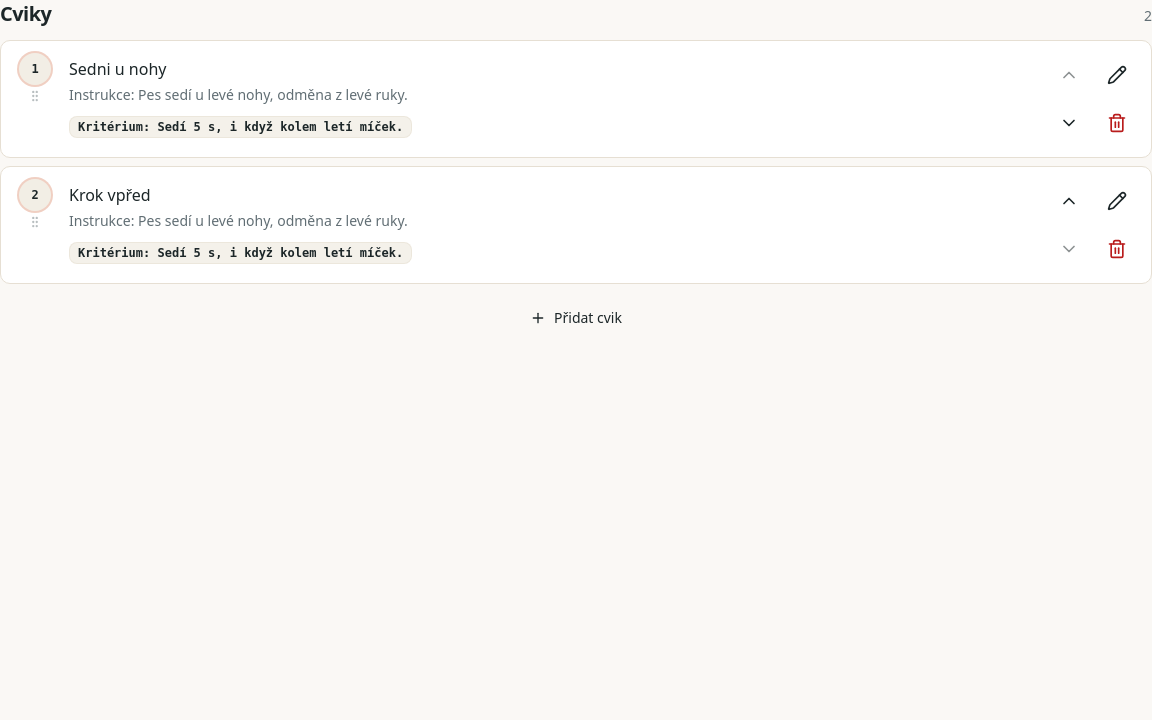
Test: PlanBlocksSection › lets a new exercise go between existing ones (#65)
Click the button "Přidat cvik" at (576, 318), box [0,296,1151,340]
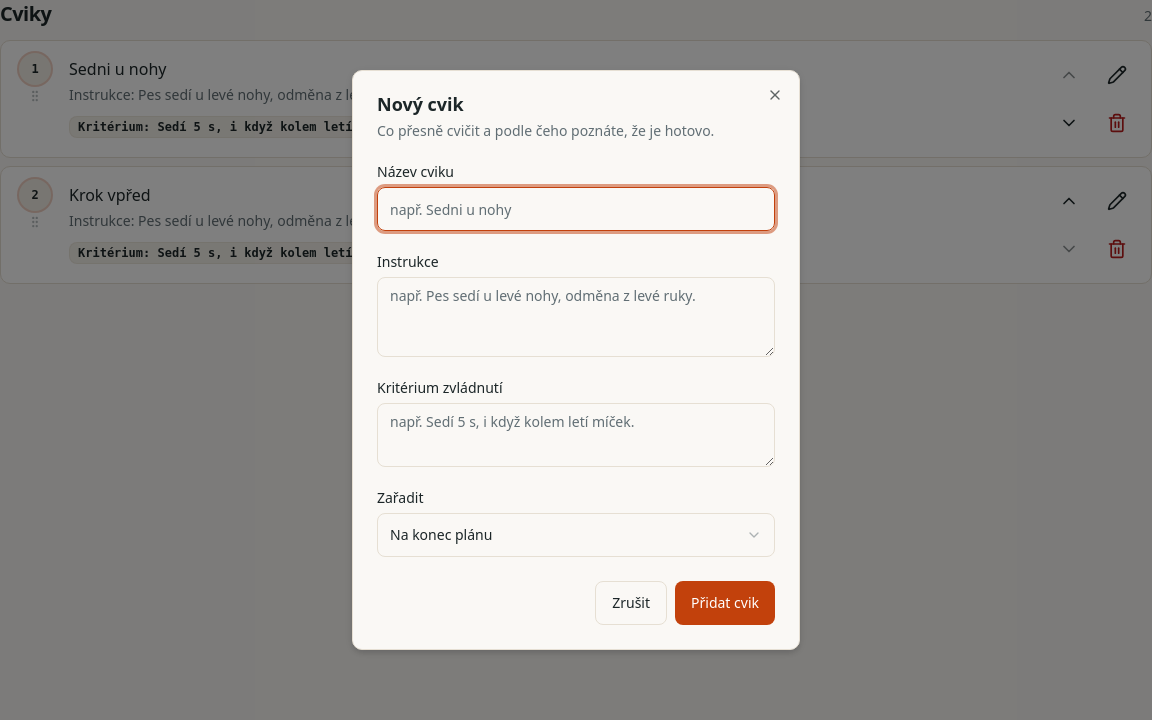
Click the dropdown named "Zařadit" at (441, 534), box [377,513,775,557]
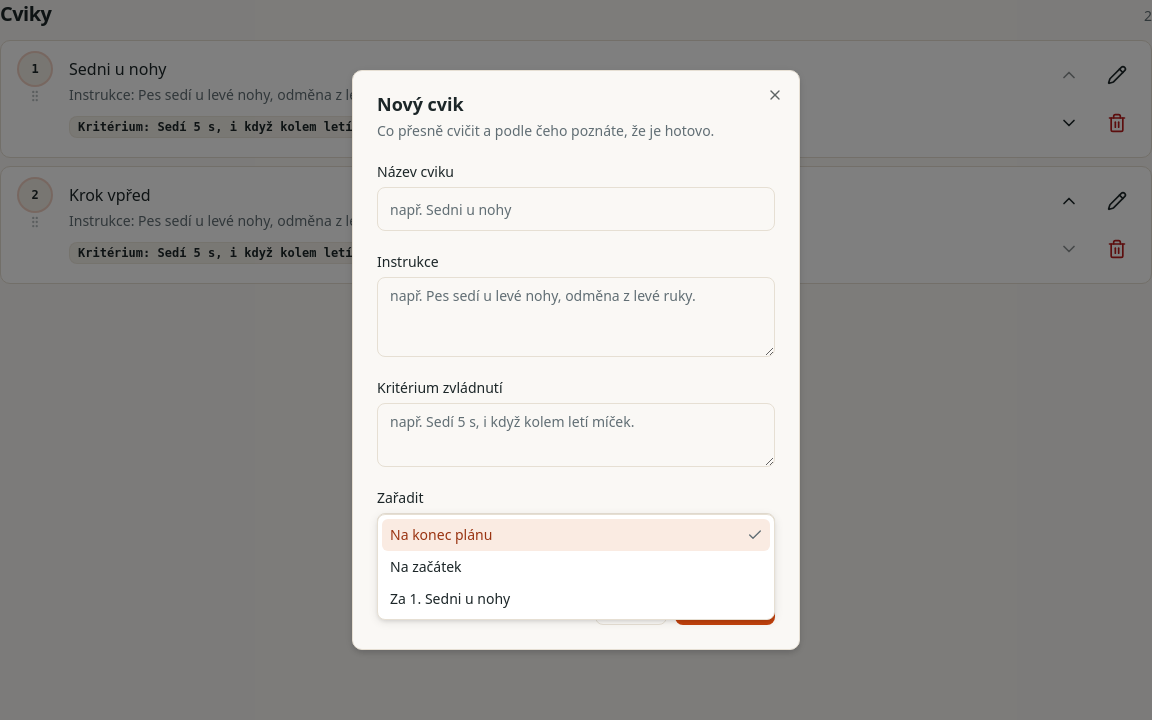
Check: the options read "Na konec plánu", "Na začátek", "Za 1. Sedni u nohy", in this order, box [382,519,770,551]; [390,557,462,576]; [390,589,510,608]
